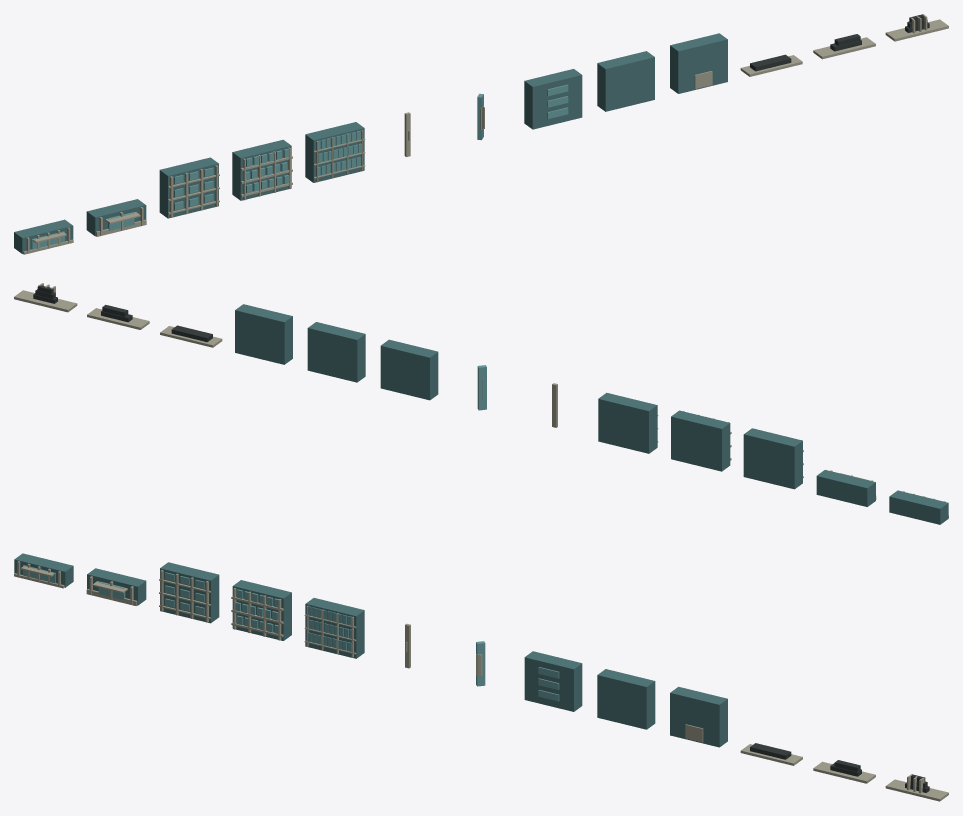
The model's file is blue-green-curtain-wall.glb.
3 views of the same model, one above another, from view 1: azimuth 30°, elevation 25°; view 2: azimuth 150°, elevation 25°; view 3: azimuth 330°, elevation 25° (orthographic).
Parts seen in each view (by area): view 1: middle-wall (×3), party-wall, rear-wall, exposed-wall, base-shell (×2), cornice; view 2: middle-wall (×3), base-shell (×2), party-wall, exposed-wall, rear-wall, cornice; view 3: middle-wall (×3), party-wall, rear-wall, exposed-wall, base-shell (×2).
Boxes of the visible parts, box(x1,y1,x2,y2) form: middle-wall (×3): box(159, 122, 364, 218); party-wall: box(597, 51, 654, 111); rear-wall: box(670, 33, 727, 93); exposed-wall: box(524, 69, 582, 129); base-shell (×2): box(14, 199, 146, 253); cornice: box(885, 19, 948, 41); middle-wall (×3): box(598, 392, 802, 489); base-shell (×2): box(816, 470, 948, 524); party-wall: box(307, 322, 365, 382); exposed-wall: box(380, 339, 438, 400); rear-wall: box(235, 304, 292, 364); cornice: box(14, 290, 77, 312); middle-wall (×3): box(160, 562, 364, 658); party-wall: box(597, 669, 655, 729); rear-wall: box(670, 686, 727, 747); exposed-wall: box(524, 651, 582, 711); base-shell (×2): box(14, 553, 146, 605).
Size of the model in its own units: 63.61 by 2.8 by 1.6.
